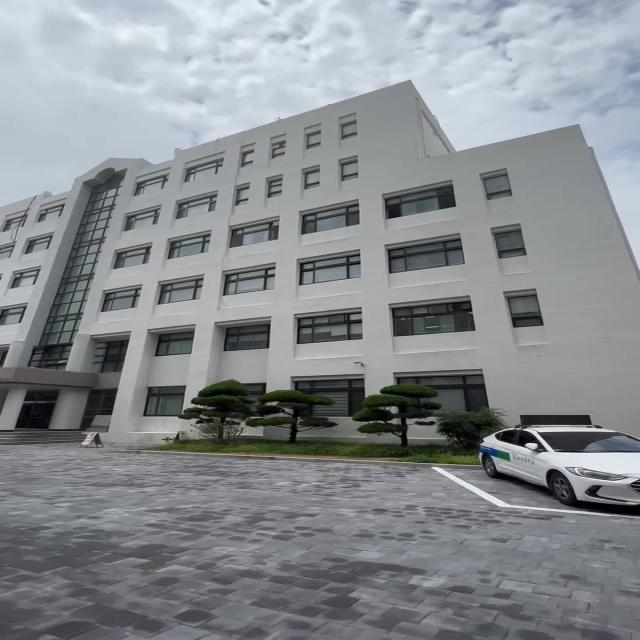building: (32, 107, 640, 382)
